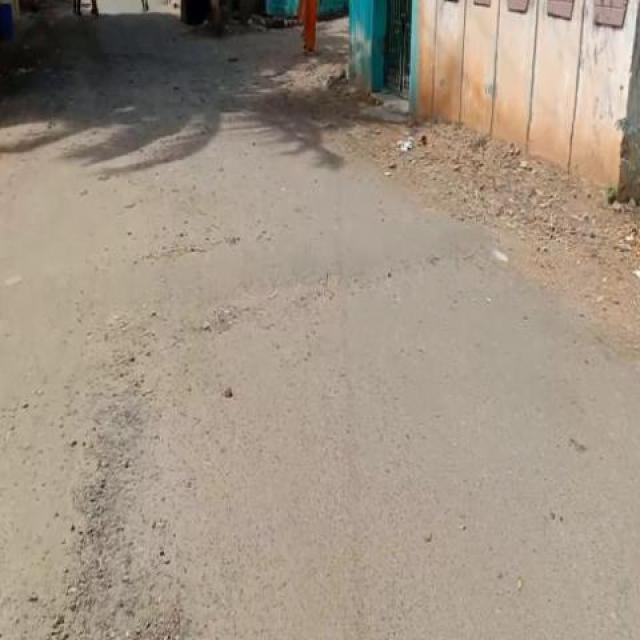Unmarked Bump: (0, 202, 477, 337)
